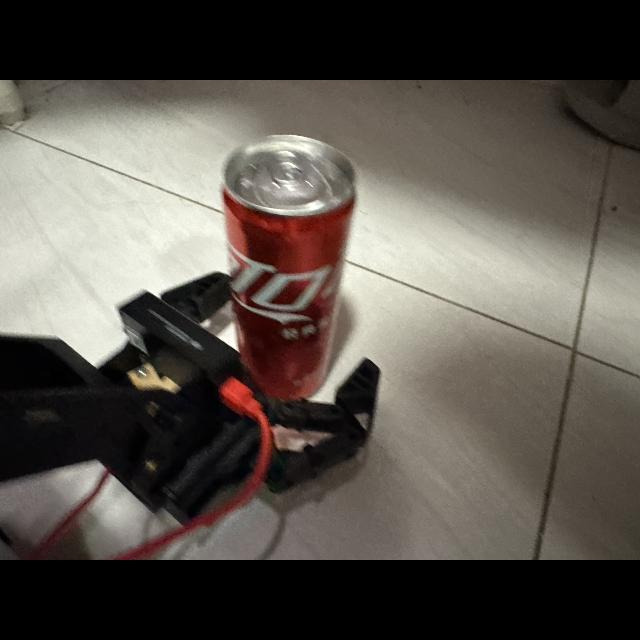Cola: (215, 130, 371, 398)
